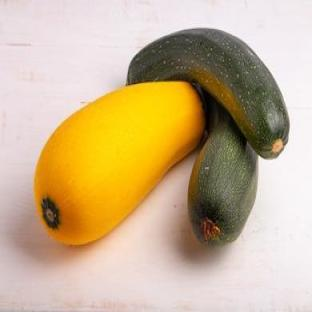Zucchini: (128, 29, 289, 158), (188, 100, 257, 247)
